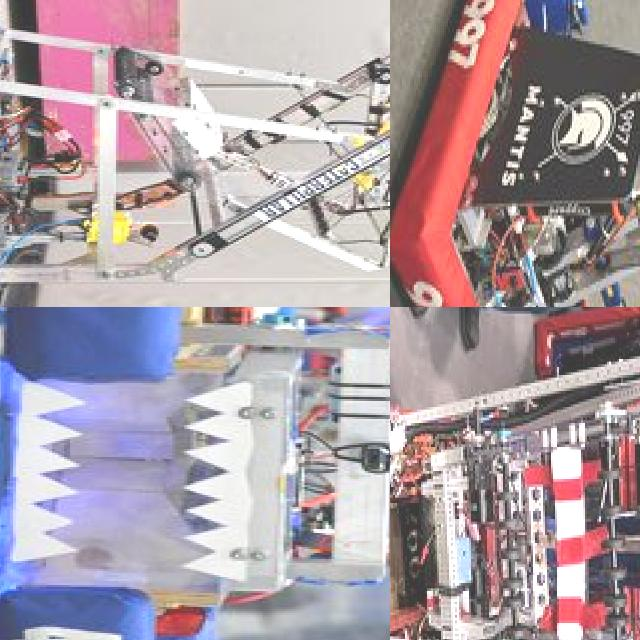FRC-Robots: (0, 307, 390, 640), (0, 0, 390, 307), (390, 332, 640, 640), (390, 0, 640, 307)
